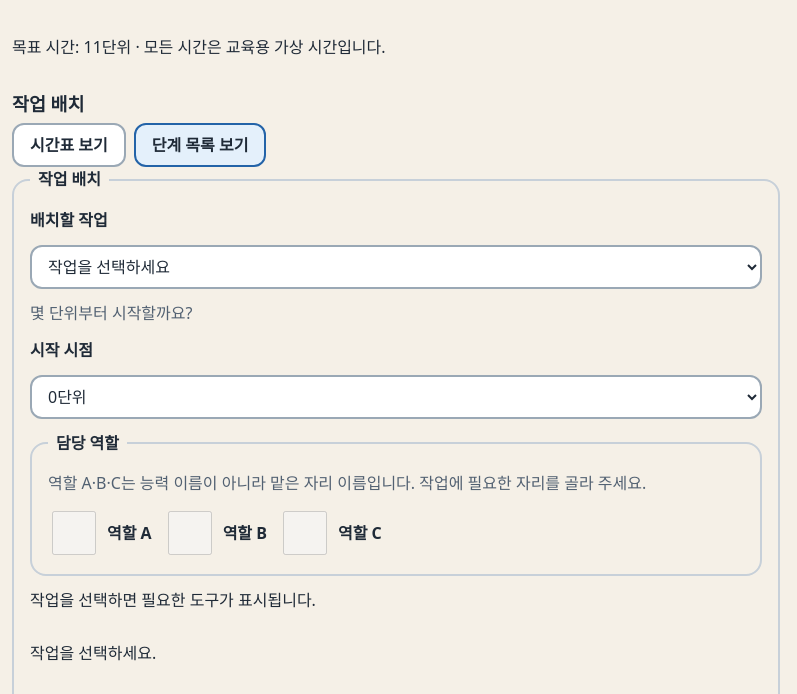
keyboard-first schedule editor › starts with the step list on a small viewport and can switch to the grid
The width and height of the screenshot is (797, 694).
Click the button "시간표 보기".
click(69, 145)  # box [12,123,126,167]
(page scrolled)
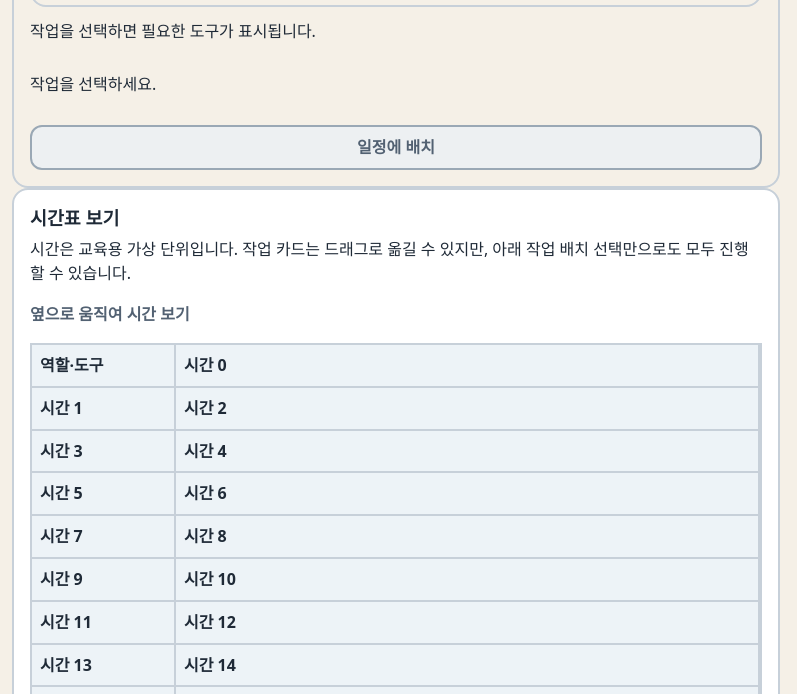
Now the text "옆으로 움직여 시간 보기" is shown, box [30,303,190,325]
